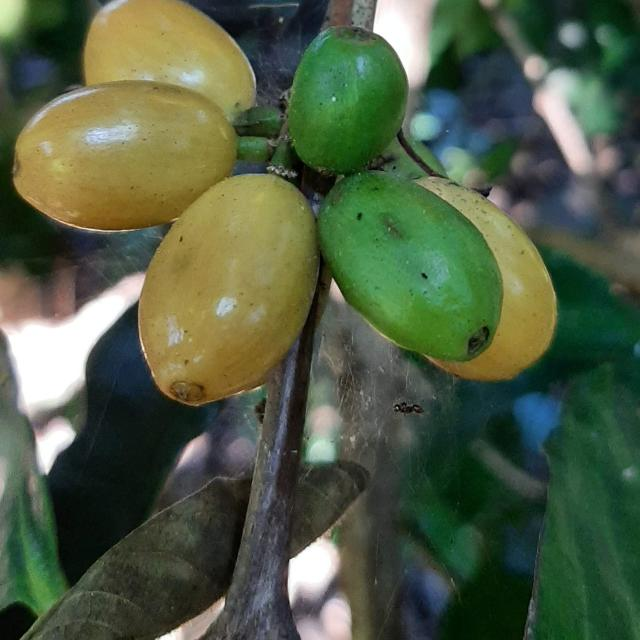green: (318, 171, 504, 362), (288, 25, 409, 174)
red: (139, 174, 319, 405), (12, 80, 236, 230), (415, 176, 558, 381), (83, 0, 256, 120)
